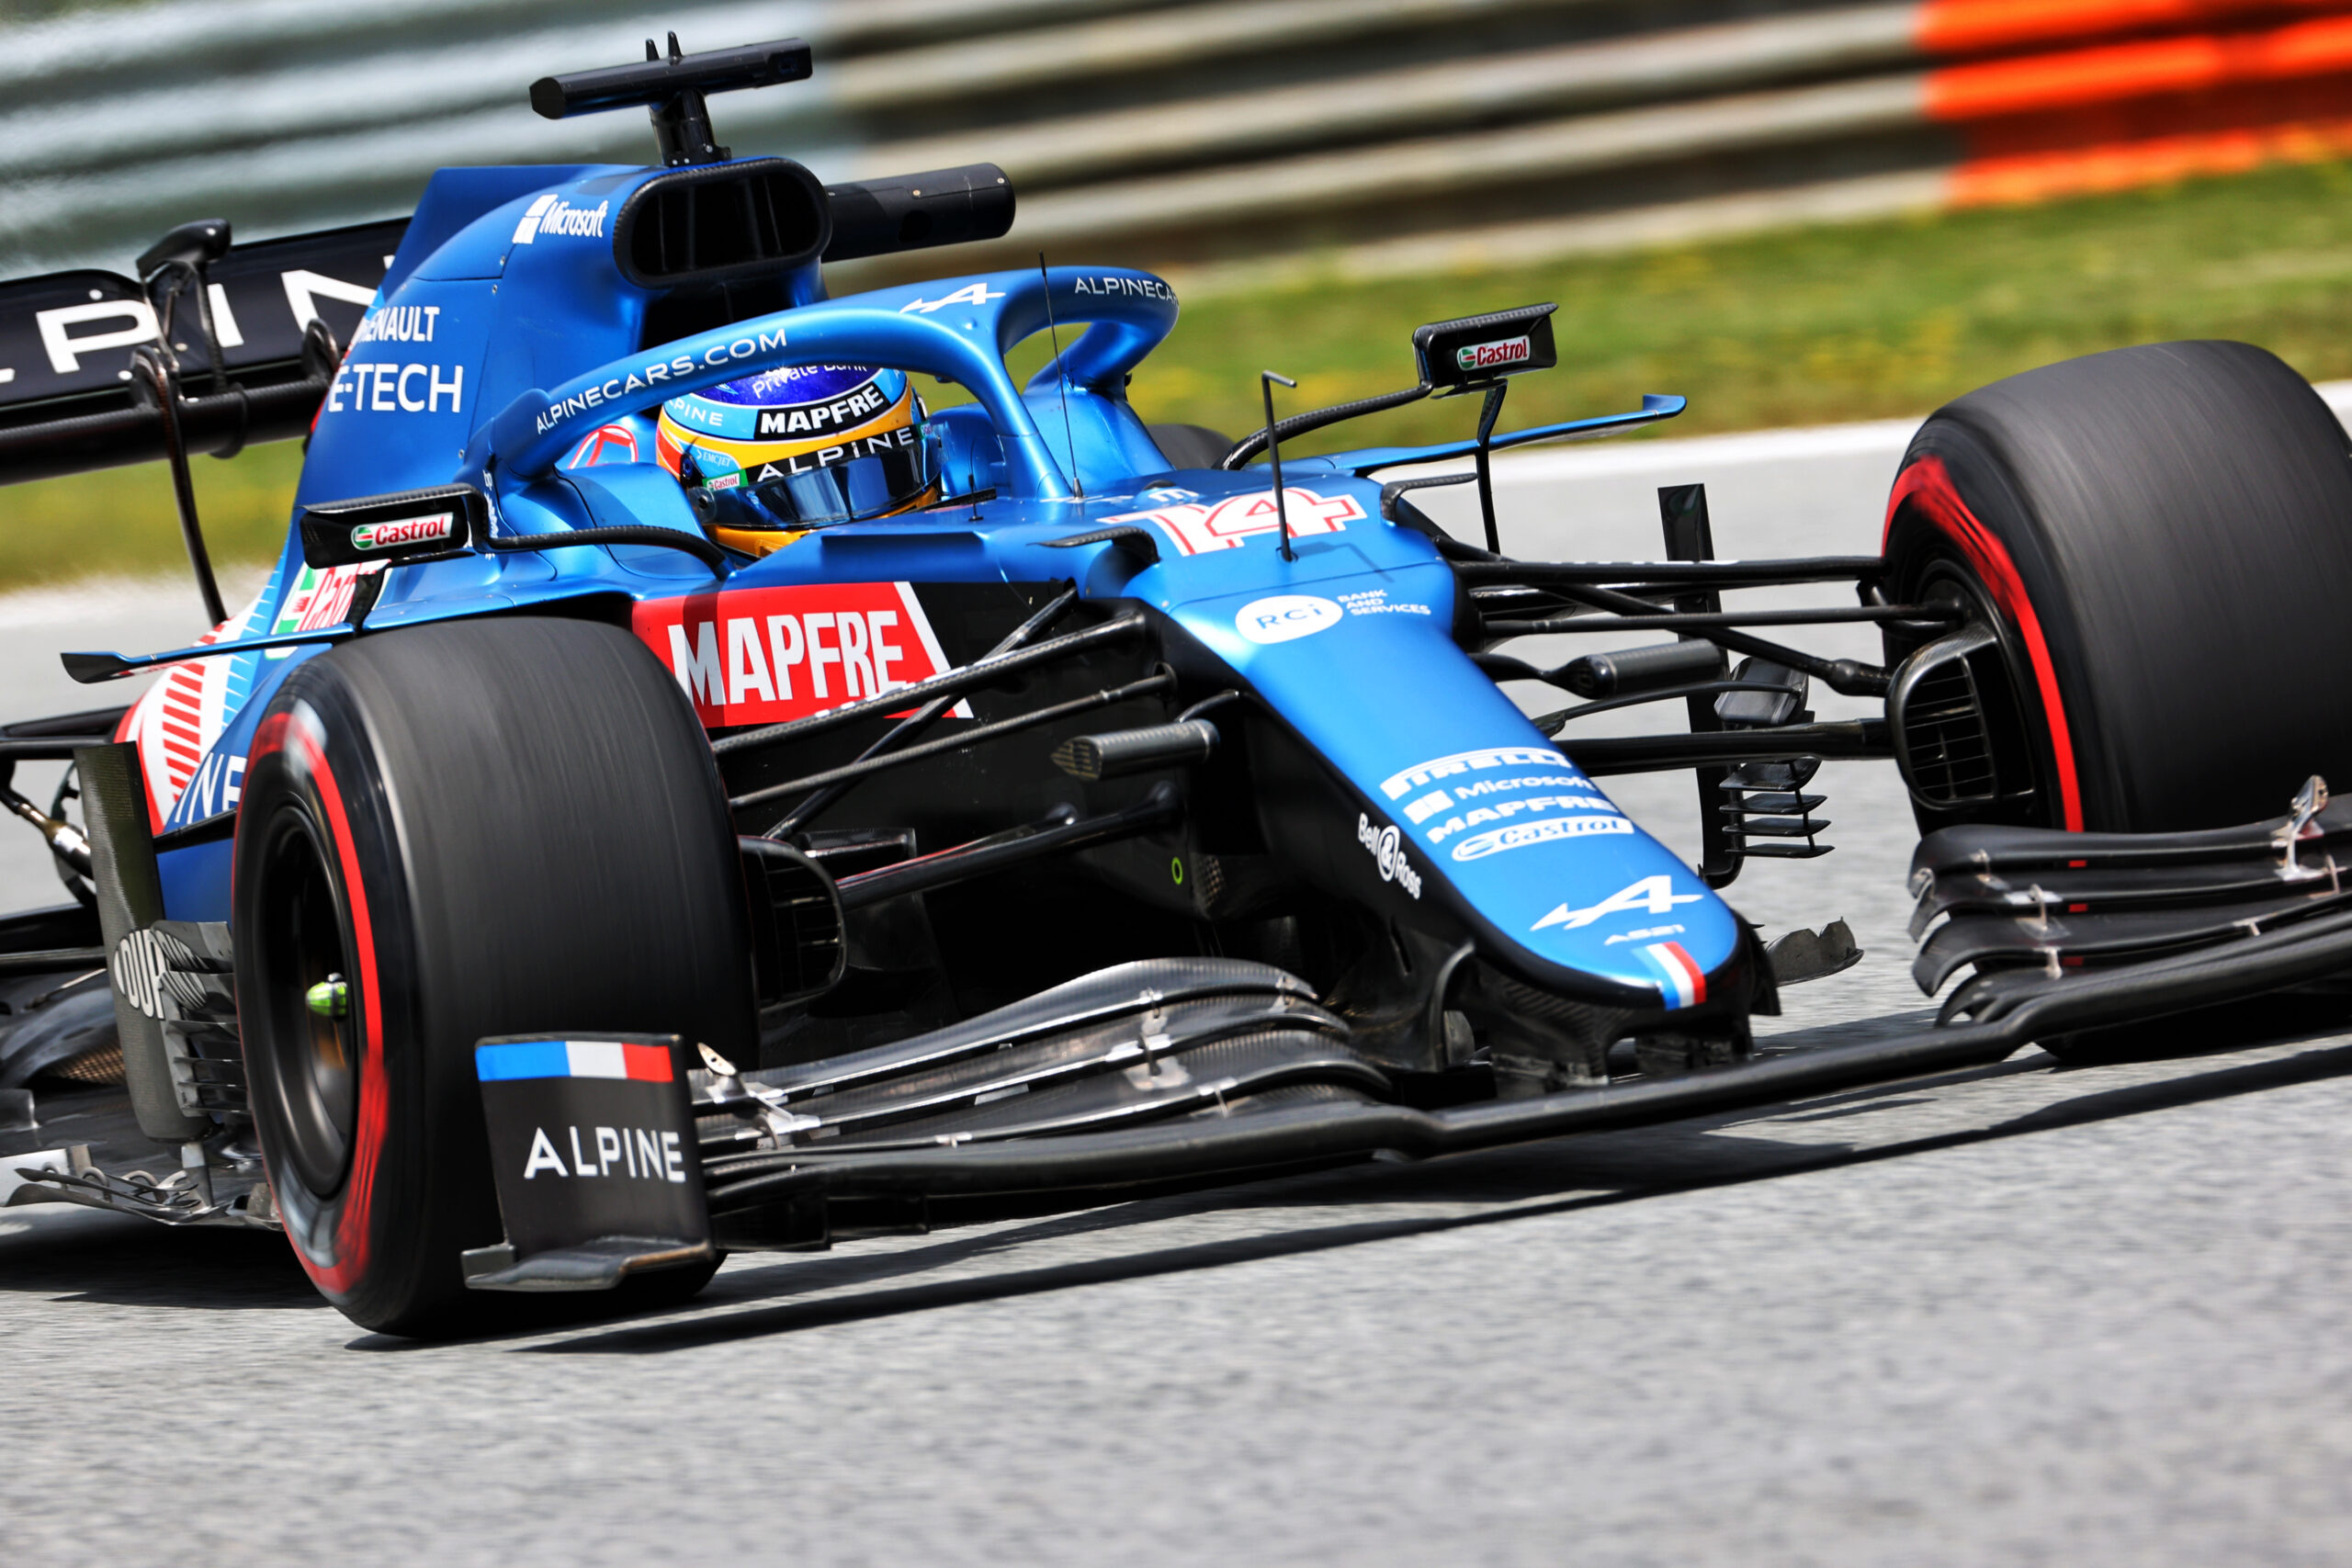Formule 1: (3, 175, 2352, 1342)
